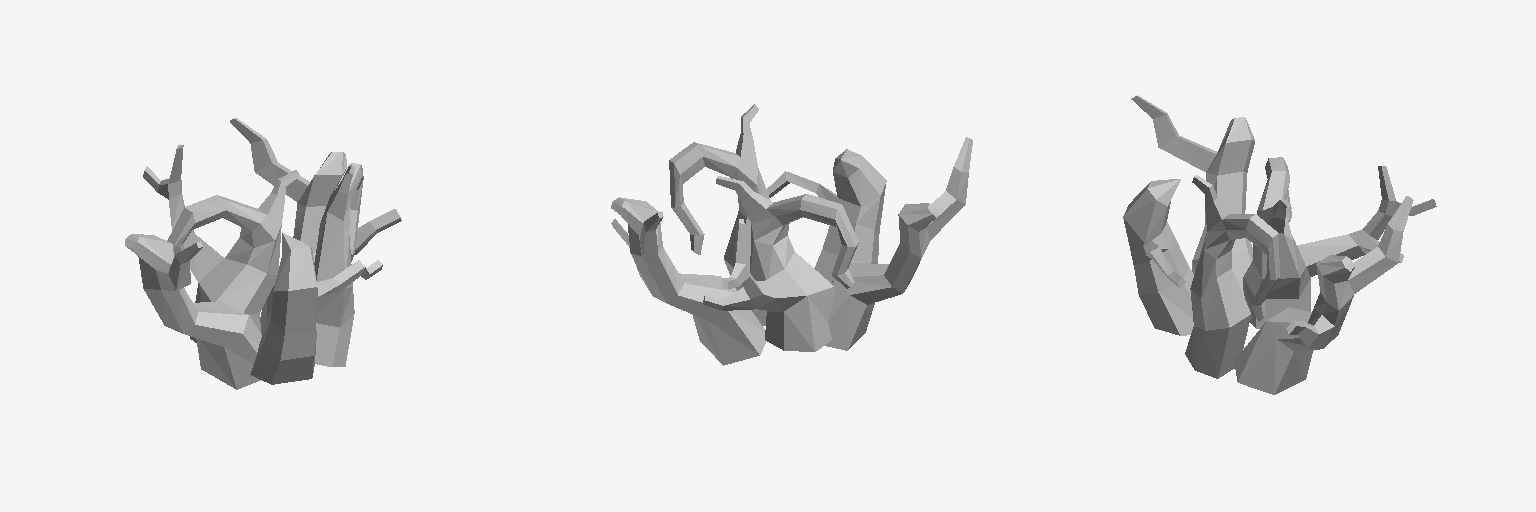
File: withered_bush.obj
3 renders of one model, left to right at view 1: azimuth 30°, elevation 25°; view 2: azimuth 150°, elevation 25°; view 3: azimuth 270°, elevation 25°, orthographic.
Parts seen in each view (by area): view 1: Cube_Cube.001; view 2: Cube_Cube.001; view 3: Cube_Cube.001.
Boxes of the visible parts, x1,y1,x2,y2 form: Cube_Cube.001: [125, 118, 401, 389]; Cube_Cube.001: [611, 104, 972, 365]; Cube_Cube.001: [1123, 95, 1436, 394].
Size of the model in its own units: 4.22 by 2.9 by 3.82.